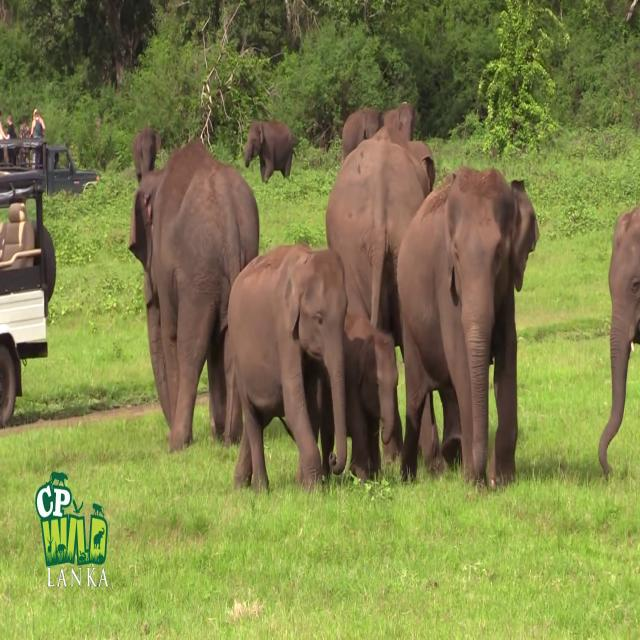Elephant: (396, 165, 540, 490), (128, 132, 260, 452), (324, 101, 416, 489), (223, 242, 348, 495), (597, 204, 640, 479), (243, 118, 296, 183)
